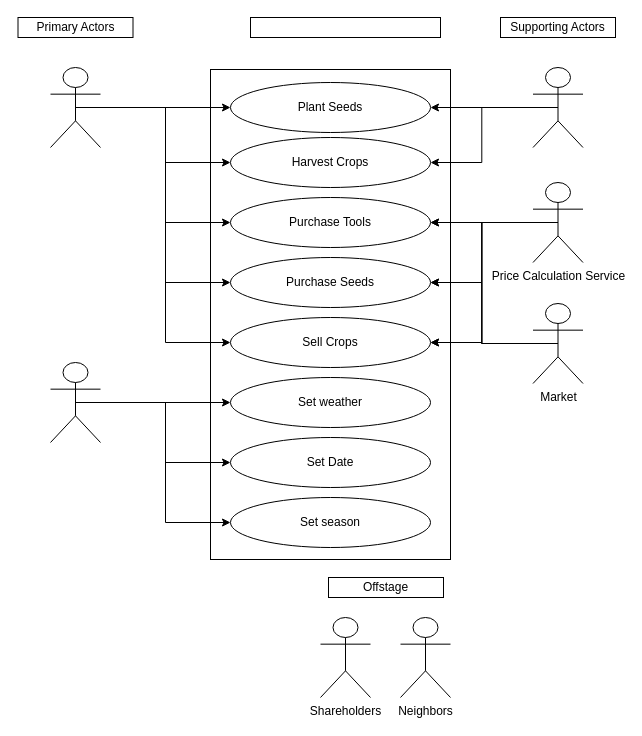
The diagram is 642 pixels wide and 736 high, and some of its shapes have lost their labels. The shapes that lost their labels are listed below. From the top down, each one's centre as x and y in pixels, then its label:
At pixel 345 27: "Functional Requirements".
At pixel 75 107: "Player".
At pixel 557 107: "Farm".
At pixel 75 402: "Game Admin".
